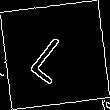L_NE: (27, 25, 83, 85)
